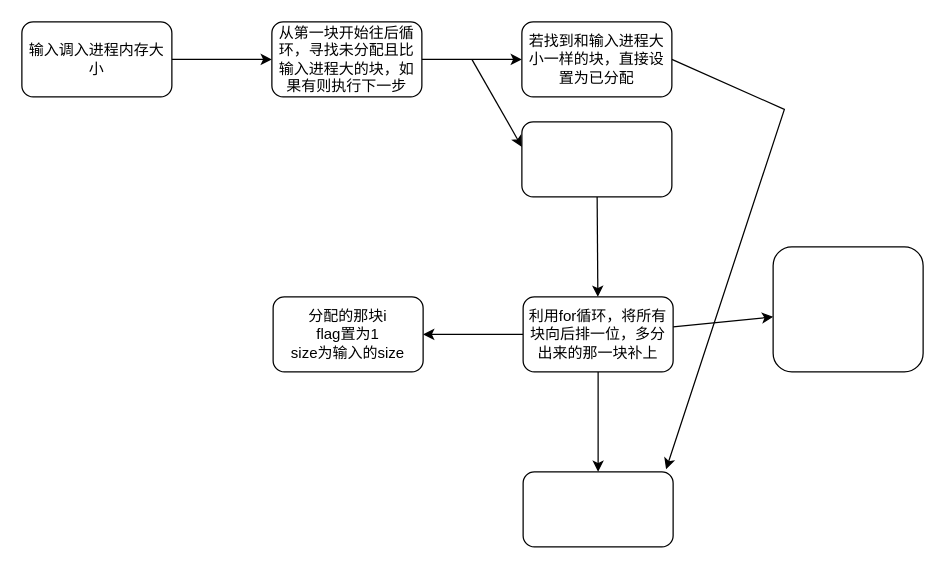
Image size: 945x569. Some labels were removed from this diagram. The centre of each missing label's shape, as x and y in pixels:
"display显示所有块" goes at (x=597, y=509).
"否则需要分出两块，总块数+1" goes at (x=596, y=159).
"未分配的那块i+1 flag为0 addr加上前一个分配的size size变为原大小减去占用大小" goes at (x=847, y=309).
